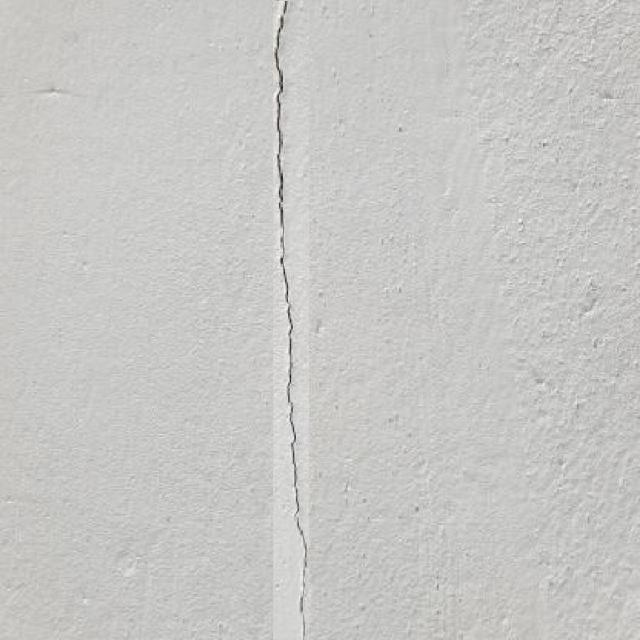vertical crack: (273, 1, 309, 640)
